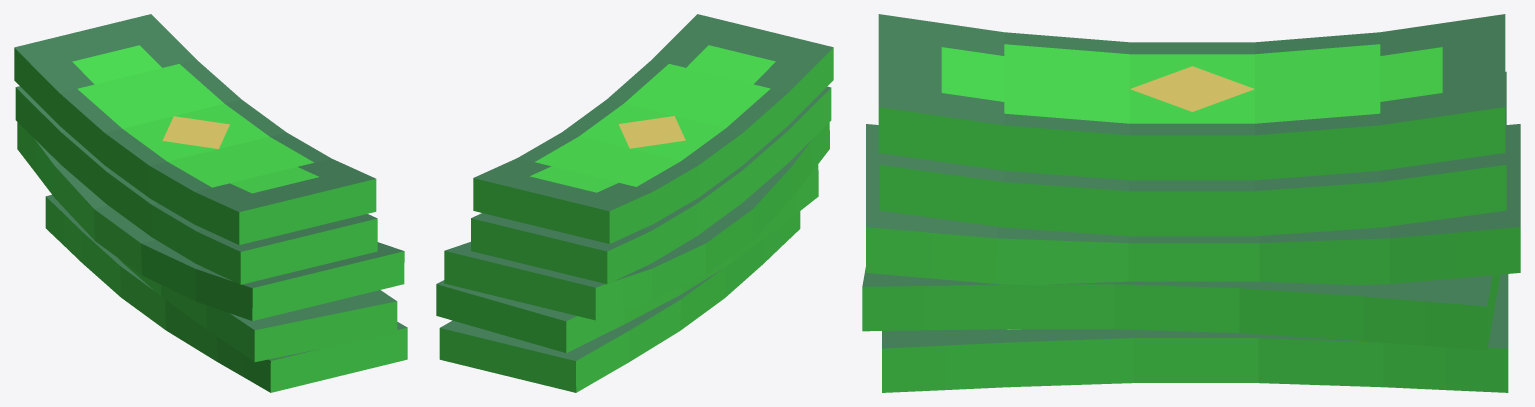
File: money-2.fbx
The picture shows the model from 3 angles, left to right: view 1: azimuth 30°, elevation 25°; view 2: azimuth 150°, elevation 25°; view 3: azimuth 270°, elevation 25°; orthographic projection. The views are drawn at different scales.
Parts seen in each view (by area): view 1: Cube.017; view 2: Cube.017; view 3: Cube.017.
Part boxes in pixels (x1,y1,x2,y2): Cube.017: (14,14,407,392); Cube.017: (436,14,833,392); Cube.017: (862,14,1520,392).
Size of the model in its own units: 181 by 173 by 392.
